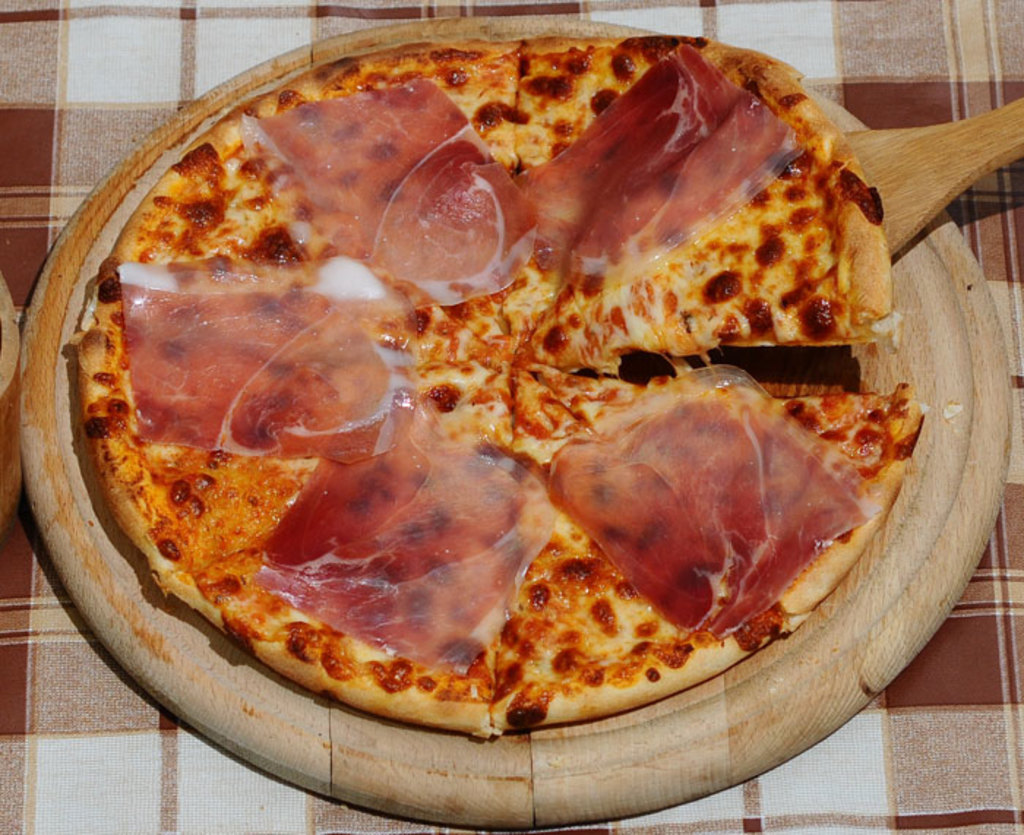Pizza: (80, 30, 918, 734)
